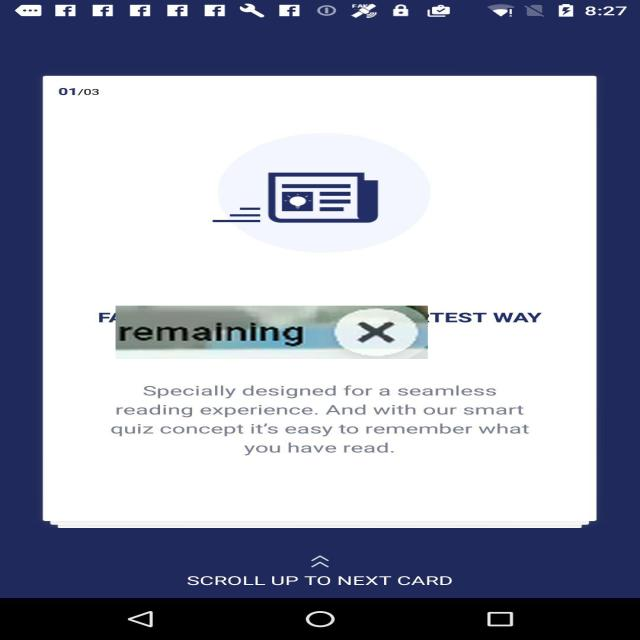misdirection: (115, 306, 428, 359)
